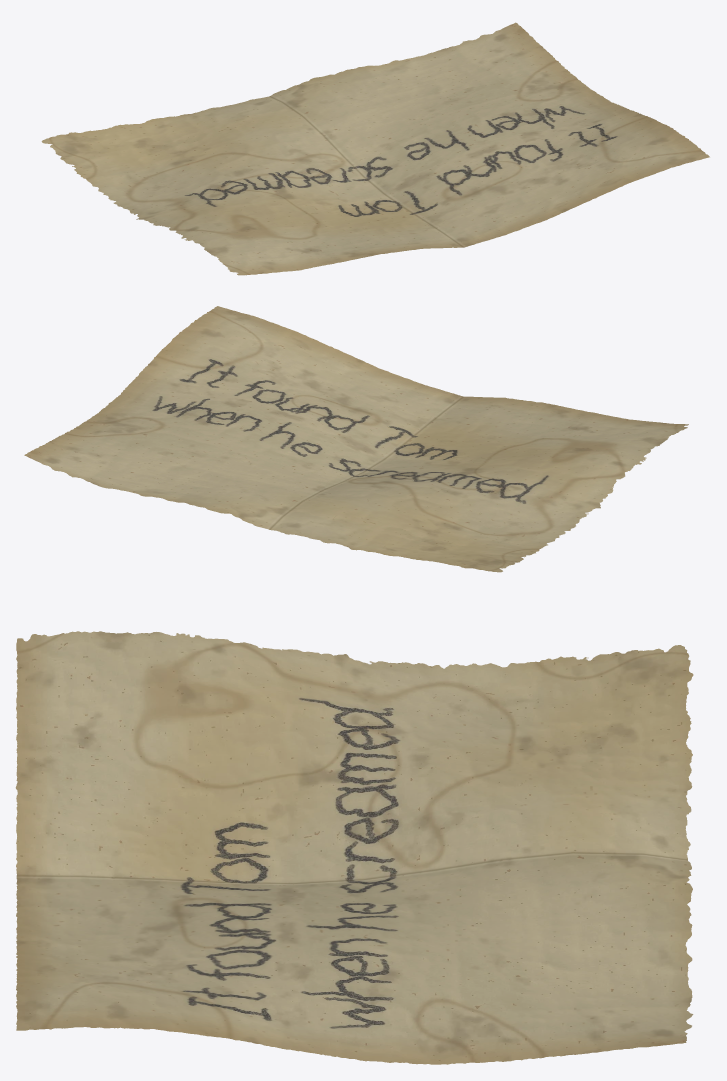
Rendered from note_tom.glb.
3 renders of one model, top to bottom at view 1: azimuth 30°, elevation 25°; view 2: azimuth 150°, elevation 25°; view 3: azimuth 270°, elevation 25°, orthographic. The views are drawn at different scales.
Visible parts, largest first — view 1: note_tom; view 2: note_tom; view 3: note_tom.
Part boxes in pixels (x1,y1,x2,y2): note_tom: (41,22,709,275); note_tom: (24,306,688,572); note_tom: (15,631,693,1064).
Bounding box in the file's own units: 0.17 × 0.0124 × 0.12.
Materials: 1 (1 with a texture image).
